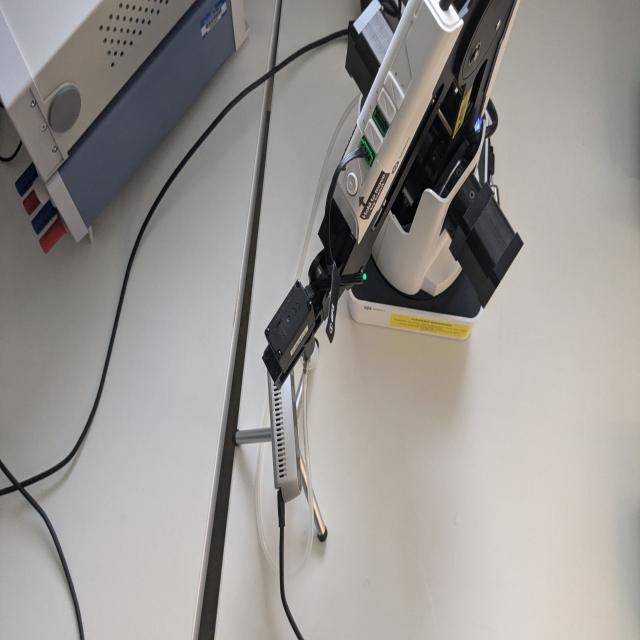Robot-end-effector-HF8z: (261, 274, 322, 392)
